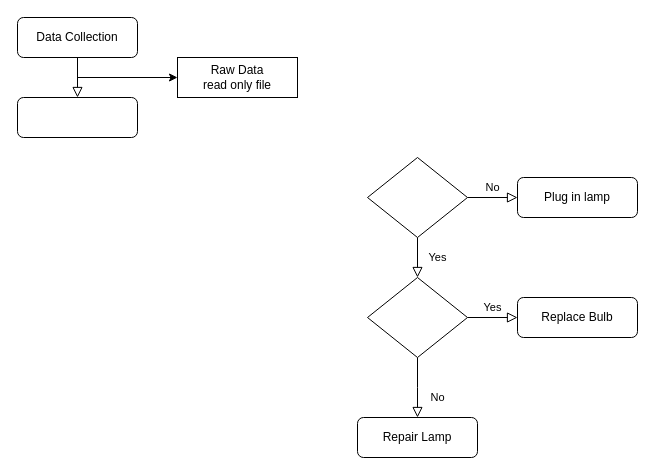
This 655x475 diagram has some shape labels left out. Here are the shapes that lost their labels. From the top down, the centre of each, then its label:
At (77,117): "Data Cleanup".
At (417,197): "Lamp plugged in?".
At (417,317): "Bulb burned out?".
